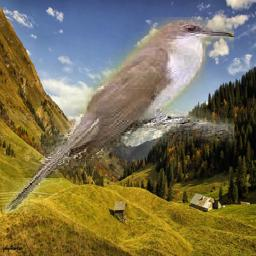Cuckoo: (2, 17, 234, 213)
